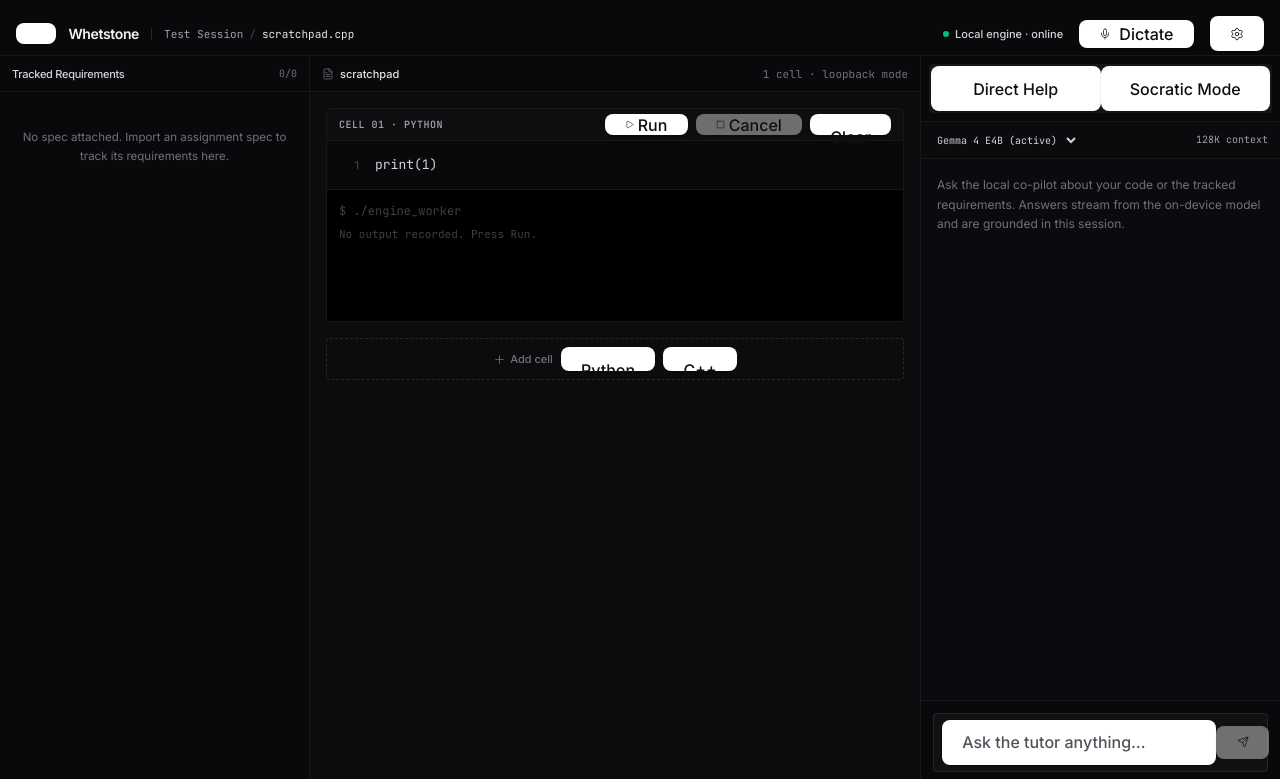
Scenario: co-pilot mode round-trip › sends mode=socratic to /ai/ask after the user switches to Socratic
expect the text box named "Cell 01 source" is shown: met, box [375,153,899,177]
Click the tab "Socratic Mode".
click(1185, 89)  # box [1100,66,1270,111]
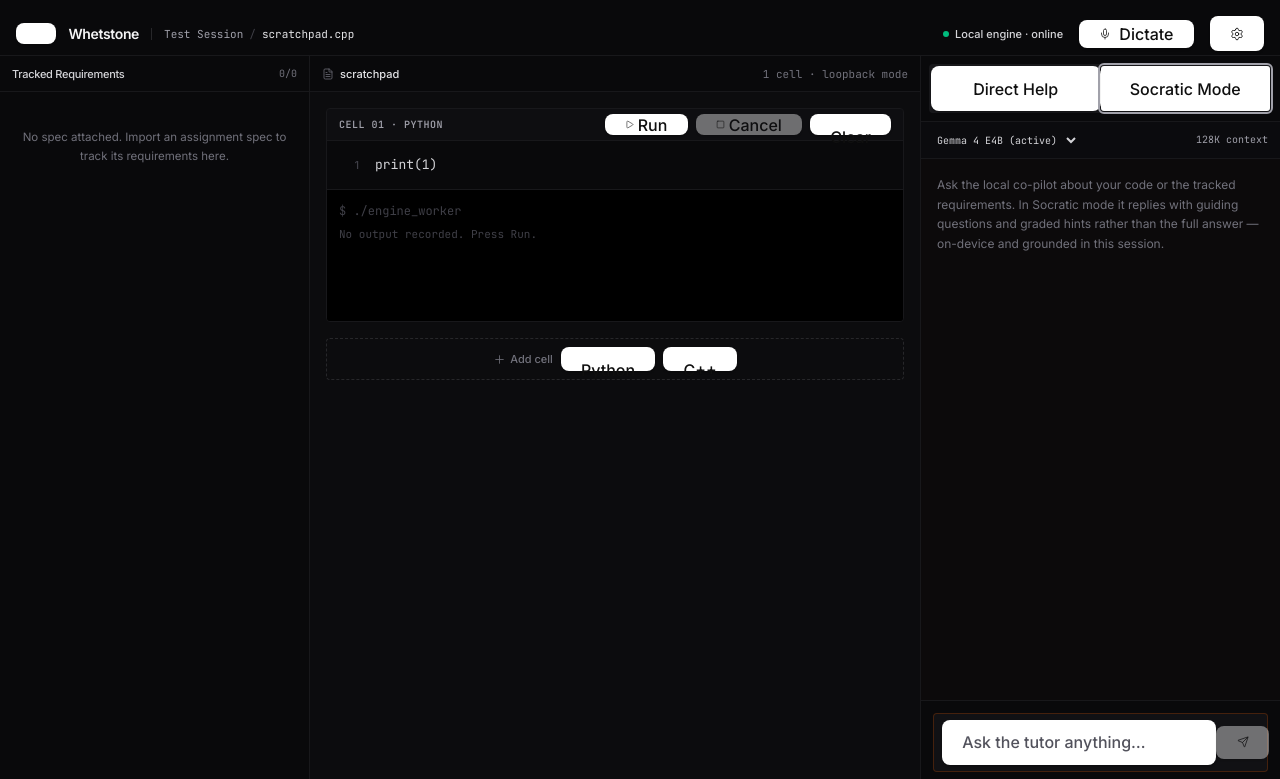
Type "what is a heap?" into the field named "Ask the tutor a question".
click(1079, 742); type("what is a heap?")  # box [942,720,1216,765]
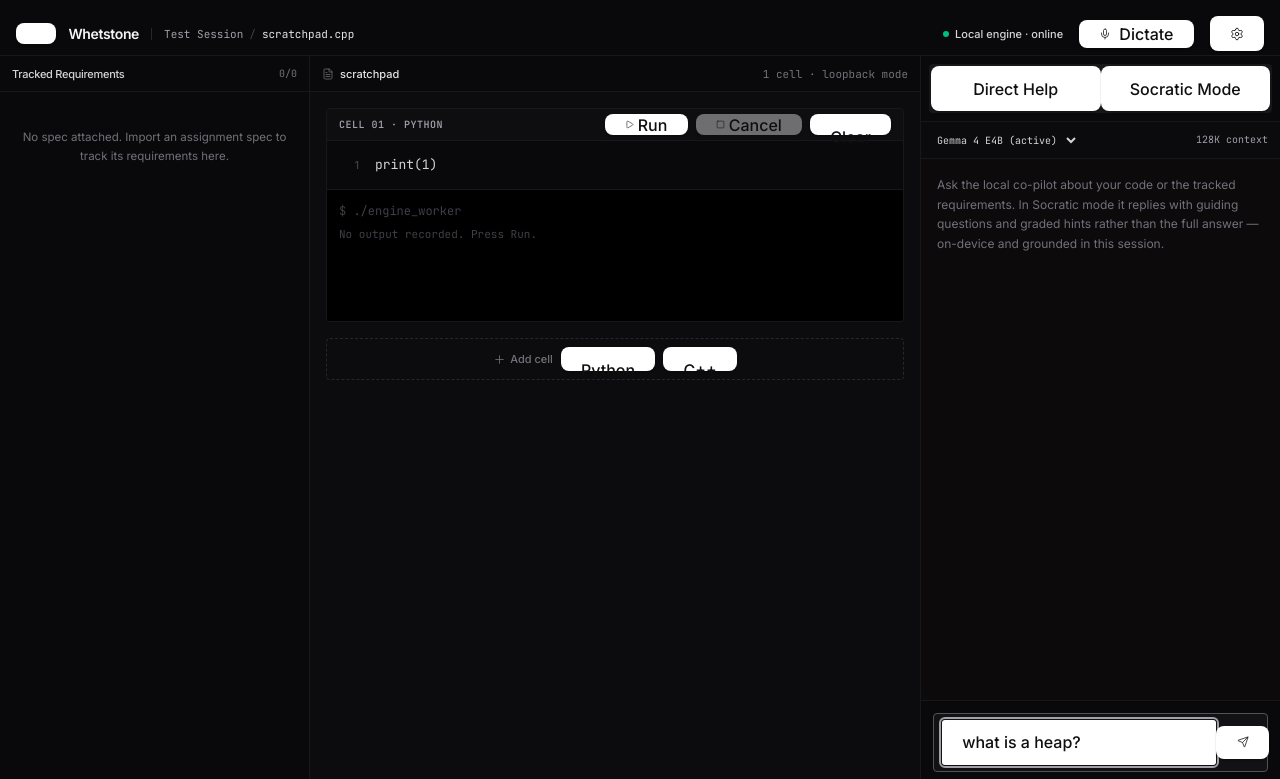
Click the button named "Send message".
click(1243, 742)  # box [1216,726,1269,759]
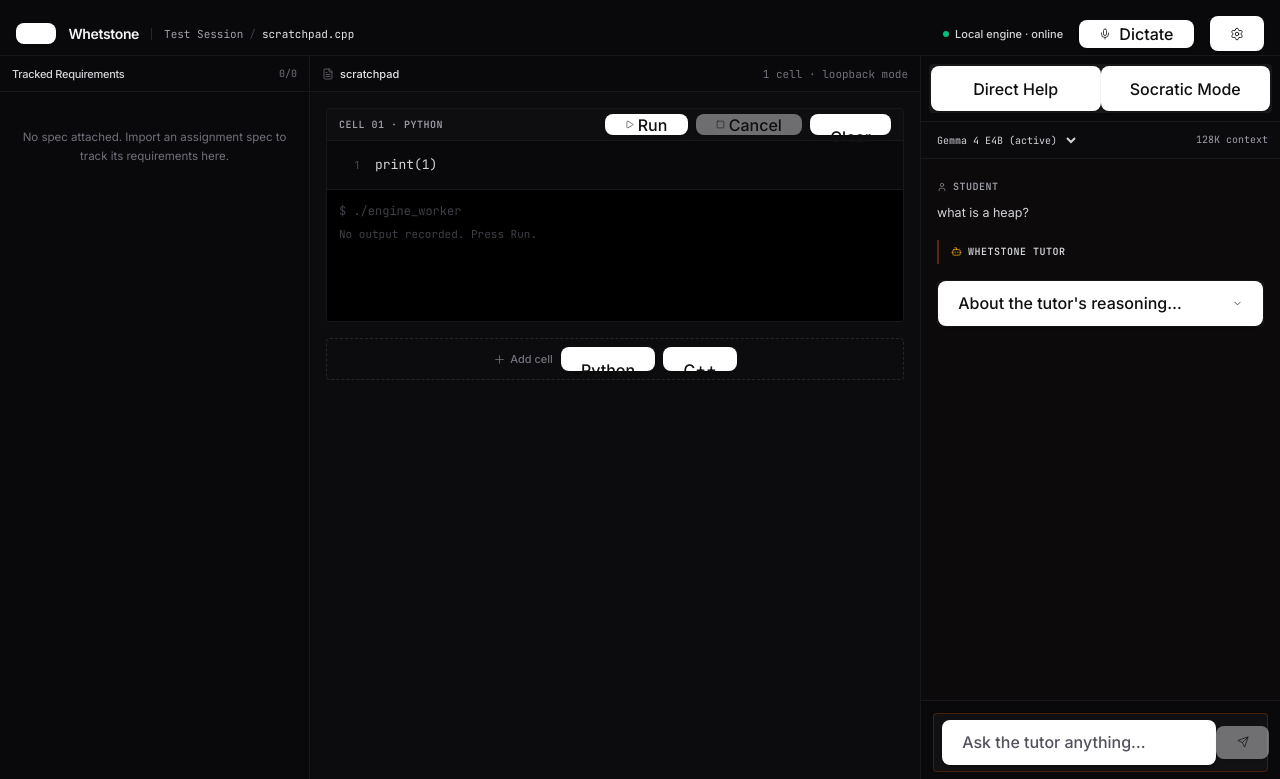
expect the text "what is a heap?" is shown: met, box [937,205,1029,220]
